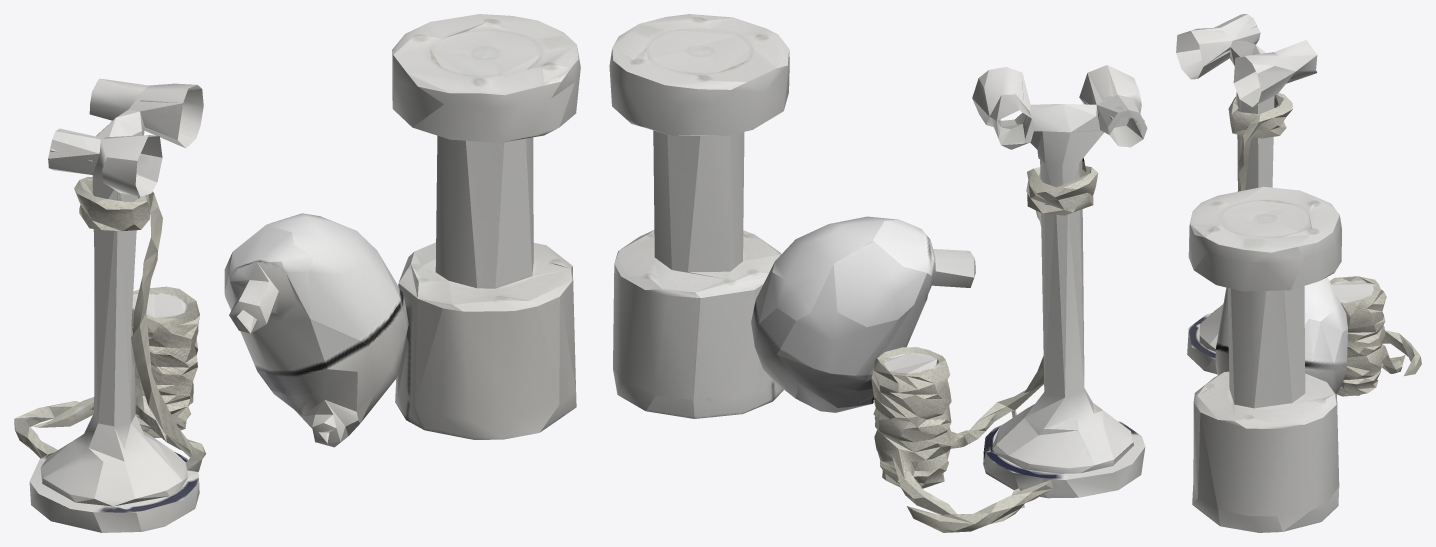
File: bermuda-harbour-props.glb
The picture shows the model from 3 angles, left to right: view 1: azimuth 30°, elevation 25°; view 2: azimuth 150°, elevation 25°; view 3: azimuth 270°, elevation 25°; orthographic projection. The views are drawn at different scales.
Visible parts, largest first — view 1: output_unwrapped; view 2: output_unwrapped; view 3: output_unwrapped.
Part boxes in pixels (x1=…): output_unwrapped: x1=14, y1=14, x2=580, y2=532; output_unwrapped: x1=609, y1=14, x2=1147, y2=532; output_unwrapped: x1=1176, y1=14, x2=1421, y2=532.
Bounding box in the file's own units: 1.9 × 1.37 × 0.9314.
1 material, 1 textured.
